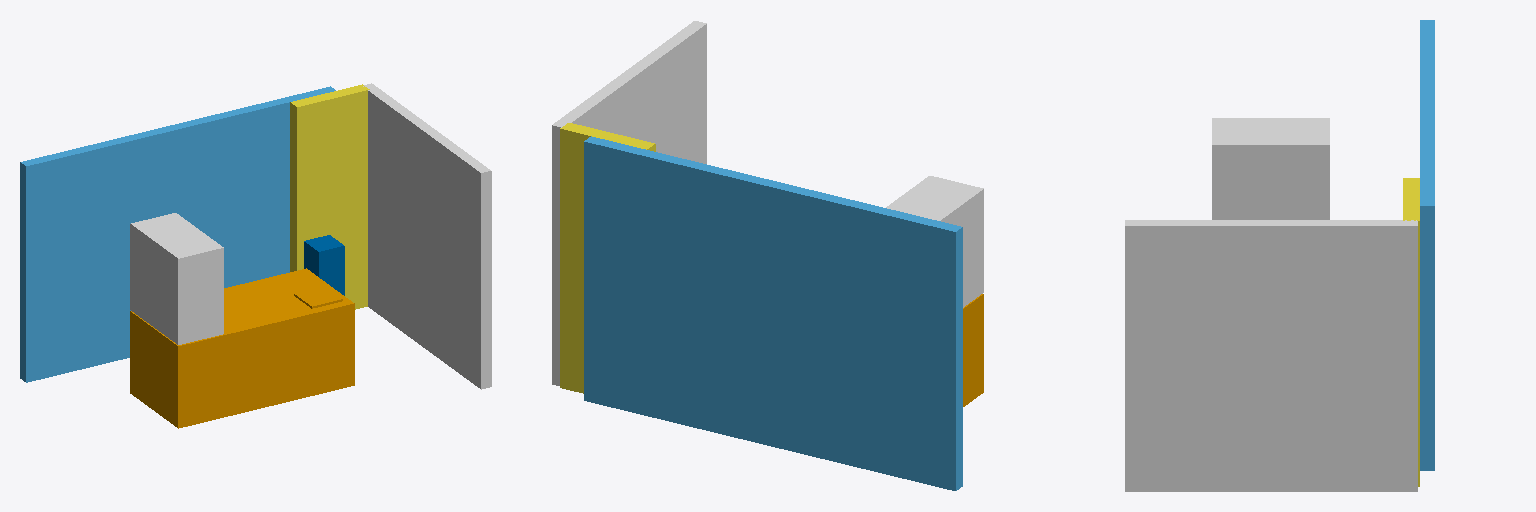
--- What the picture shows (computed from the rendered views, not written in the file) ---
3 views of the same robot in one strip: view 1: azimuth 30°, elevation 25°; view 2: azimuth 150°, elevation 25°; view 3: azimuth 270°, elevation 25° (orthographic).
Robot: pandas — 41 links, 40 joints (7 revolute, 2 prismatic, 31 fixed); root link world; default pose: joints at zero except 1 at the middle of their limits (panda2_joint4 = -1.57).
Visible links, largest first — view 1: wall_link_1, wall_link_2, support_link, wall_link_3, panda1_box, pedestal; view 2: wall_link_1, wall_link_2, wall_link_3, panda1_box, support_link; view 3: wall_link_2, panda1_box, wall_link_1, wall_link_3.
Link boxes in pixels (x1,y1,x2,y2): wall_link_1: (20, 86, 335, 382); wall_link_2: (363, 83, 491, 389); support_link: (130, 268, 354, 428); wall_link_3: (290, 84, 369, 309); panda1_box: (130, 213, 223, 344); pedestal: (304, 235, 344, 295); wall_link_1: (584, 136, 962, 490); wall_link_2: (552, 21, 706, 385); wall_link_3: (560, 123, 655, 393); panda1_box: (886, 176, 983, 307); support_link: (963, 294, 983, 406); wall_link_2: (1125, 220, 1417, 491); panda1_box: (1212, 118, 1329, 219); wall_link_1: (1420, 20, 1434, 470); wall_link_3: (1403, 178, 1419, 486).
Size in the robot's own frame: 3.33 by 2.12 by 2 metres.
Geometry: primitives only (box / cylinder / sphere), no mesh files.

The robot description file, URDF, robot "pandas":
<?xml version="1.0" ?>
<!-- =================================================================================== -->
<!-- |    This document was autogenerated by xacro from [local-path]/devel/hpp/install/share/agimus_demos/franka/manipulation/urdf/demo.urdf.xacro | -->
<!-- |    EDITING THIS FILE BY HAND IS NOT RECOMMENDED                                 | -->
<!-- =================================================================================== -->
<robot name="pandas">
  <link name="support_link">
    <inertial>
      <mass value="200"/>
      <origin xyz="0 0 0.45"/>
      <inertia ixx="50" ixy="0" ixz="0" iyy="50" iyz="0" izz="50"/>
    </inertial>
    <visual>
      <origin xyz="0 0 0.38"/>
      <geometry>
        <box size="1.703 0.803 0.76"/>
      </geometry>
    </visual>
    <collision>
      <origin xyz="0 0 0.38"/>
      <geometry>
        <box size="1.703 0.803 0.76"/>
      </geometry>
    </collision>
    <!--visual>
          <origin xyz="-0.61 0.2215 0.77"/>
          <geometry>
	    <box size="0.363 0.252 0.02"/>
          </geometry>
        </visual>
        <collision>
          <origin xyz="-0.61 0.2215 0.77"/>
          <geometry>
	    <box size="0.363 0.252 0.02"/>
          </geometry>
        </collision-->
    <visual>
      <origin xyz="0.6385 -0.1655 0.77"/>
      <geometry>
        <box size="0.3 0.3 0.02"/>
      </geometry>
    </visual>
    <collision>
      <origin xyz="0.6385 -0.1655 0.77"/>
      <geometry>
        <box size="0.3 0.3 0.02"/>
      </geometry>
    </collision>
  </link>
  <link name="wall_link_1">
    <inertial>
      <mass value="200"/>
      <origin xyz="0 0 1."/>
      <inertia ixx="50" ixy="0" ixz="0" iyy="50" iyz="0" izz="50"/>
    </inertial>
    <visual>
      <origin xyz="0 0 1.0"/>
      <geometry>
        <box size="3.0 0.1 2.0"/>
      </geometry>
    </visual>
    <collision>
      <origin xyz="0 0 1.0"/>
      <geometry>
        <box size="3.0 0.1 2.0"/>
      </geometry>
    </collision>
  </link>
  <link name="wall_link_2">
    <inertial>
      <mass value="200"/>
      <origin xyz="0 0 1."/>
      <inertia ixx="50" ixy="0" ixz="0" iyy="50" iyz="0" izz="50"/>
    </inertial>
    <visual>
      <origin xyz="0 0 1.0"/>
      <geometry>
        <box size="0.1 2.0 2.0"/>
      </geometry>
      <material name="lightGrey">
        <color rgba="0.9 0.9 0.9 0.5"/>
      </material>
    </visual>
    <collision>
      <origin xyz="0 0 1.0"/>
      <geometry>
        <box size="0.1 2.0 2.0"/>
      </geometry>
    </collision>
  </link>
  <link name="wall_link_3">
    <inertial>
      <mass value="200"/>
      <origin xyz="0 0 1."/>
      <inertia ixx="50" ixy="0" ixz="0" iyy="50" iyz="0" izz="50"/>
    </inertial>
    <visual>
      <origin xyz="0 0 1.0"/>
      <geometry>
        <box size="0.7 0.12 2.0"/>
      </geometry>
    </visual>
    <collision>
      <origin xyz="0 0 1.0"/>
      <geometry>
        <box size="0.7 0.12 2.0"/>
      </geometry>
    </collision>
  </link>
  <link name="pedestal">
    <inertial>
      <mass value="1."/>
      <origin xyz="1.05 0.45 0.4625"/>
      <inertia ixx=".01" ixy="0" ixz="0" iyy=".01" iyz="0" izz=".1"/>
    </inertial>
    <visual>
      <origin xyz="0 0 0.4625"/>
      <geometry>
        <box size="0.25 0.25 0.925"/>
      </geometry>
    </visual>
    <collision>
      <origin xyz="0 0 0.4625"/>
      <geometry>
        <box size="0.25 0.25 0.925"/>
      </geometry>
    </collision>
  </link>
  <!-- Wrap panda1 robot into a box shaped obstacle -->
  <link name="panda1_box">
    <inertial>
      <mass value="100"/>
      <origin xyz="0 0 0"/>
      <inertia ixx="25" ixy="0" ixz="0" iyy="25" iyz="0" izz="25"/>
    </inertial>
    <collision>
      <origin xyz="0 0 0"/>
      <geometry>
        <box size="0.44 0.803 0.80"/>
      </geometry>
    </collision>
    <visual>
      <origin xyz="0 0 0"/>
      <geometry>
        <box size="0.44 0.803 0.80"/>
      </geometry>
      <material name="lightGrey">
        <color rgba="0.9 0.9 0.9 0.5"/>
      </material>
    </visual>
  </link>
  <!-- Gazebo requires a joint to a link called "world" for statically mounted robots -->
  <link name="world">
    <inertial>
      <origin rpy="0 0  0" xyz="-0.0 0.000 0.0"/>
      <mass value="0.0"/>
       <inertia ixx="0.00" ixy="0.0" ixz="0.00015" iyy="0.0"  iyz="0.0" izz="0.0"/>
    </inertial>
  </link>
 
  <joint name="world_joint" type="fixed">
    <origin rpy="0 0 0" xyz="0 0 0"/>
    <parent link="world"/>
    <child link="support_link"/>
  </joint>
  <joint name="support_joint" type="fixed">
    <origin rpy="0 0 3.141592653589793" xyz="0.563 -0.1655 .78"/>
    <parent link="support_link"/>
    <child link="panda2_link0"/>
  </joint>
  <joint name="wall_joint_1" type="fixed">
    <origin xyz="0 1.07 0"/>
    <parent link="world"/>
    <child link="wall_link_1"/>
  </joint>
  <joint name="wall_joint_2" type="fixed">
    <origin xyz="1.78 0 0"/>
    <parent link="world"/>
    <child link="wall_link_2"/>
  </joint>
  <joint name="wall_joint_3" type="fixed">
    <origin xyz="1.40 0.96 0"/>
    <parent link="world"/>
    <child link="wall_link_3"/>
  </joint>
  <joint name="pedestal_joint" type="fixed">
    <origin xyz="1.05 0.45 0"/>
    <parent link="world"/>
    <child link="pedestal"/>
  </joint>
  <joint name="panda1_box_joint" type="fixed">
    <origin xyz="-0.6315 0 1.17"/>
    <parent link="world"/>
    <child link="panda1_box"/>
  </joint>
  <!-- sub-link defining detailed meshes for collision with environment -->
  <link name="panda2_link0">
    <inertial>
      <origin rpy="0 0 0" xyz="-0.041018 -0.00014 0.049974"/>
      <mass value="0.629769"/>
      <inertia ixx="0.00315" ixy="8.2904e-07" ixz="0.00015" iyy="0.00388" iyz="8.2299e-06" izz="0.004285"/>
    </inertial>
  </link>
  <!-- sub-link defining coarse geometries of real robot's internal self-collision -->
  <link name="panda2_link0_sc">
    <collision>
      <origin rpy="0 1.5707963267948966 0" xyz="-0.075 0 0.06"/>
      <geometry>
        <cylinder length="0.03" radius="0.09"/>
      </geometry>
    </collision>
    <collision>
      <origin xyz="-0.06 0 0.06"/>
      <geometry>
        <sphere radius="0.09"/>
      </geometry>
    </collision>
    <collision>
      <origin xyz="-0.09 0 0.06"/>
      <geometry>
        <sphere radius="0.09"/>
      </geometry>
    </collision>
    <inertial>
      <origin rpy="0 0  0" xyz="-0.0 0.000 0.0"/>
      <mass value="0.0"/>
       <inertia ixx="0.00" ixy="0.0" ixz="0.00015" iyy="0.0"  iyz="0.0" izz="0.0"/>
    </inertial>    
  </link>
  <!-- fixed joint between both sub-links -->
  <joint name="panda2_link0_sc_joint" type="fixed">
    <origin rpy="0 0 0"/>
    <parent link="panda2_link0"/>
    <child link="panda2_link0_sc"/>
  </joint>
  <!-- sub-link defining detailed meshes for collision with environment -->
  <link name="panda2_link1">
    <inertial>
      <origin rpy="0 0 0" xyz="0.003875 0.002081 -0.04762"/>
      <mass value="4.970684"/>
      <inertia ixx="0.70337" ixy="-0.000139" ixz="0.006772" iyy="0.70661" iyz="0.019169" izz="0.009117"/>
    </inertial>
  </link>
  <!-- sub-link defining coarse geometries of real robot's internal self-collision -->
  <link name="panda2_link1_sc">
    <collision>
      <origin rpy="0 0 0" xyz="0 0 -0.1915"/>
      <geometry>
        <cylinder length="0.283" radius="0.09"/>
      </geometry>
    </collision>
    <collision>
      <origin xyz="0 0 -0.05000000000000002"/>
      <geometry>
        <sphere radius="0.09"/>
      </geometry>
    </collision>
    <collision>
      <origin xyz="0 0 -0.33299999999999996"/>
      <geometry>
        <sphere radius="0.09"/>
      </geometry>
    </collision>
    <inertial>
      <origin rpy="0 0  0" xyz="-0.0 0.000 0.0"/>
      <mass value="0.0"/>
       <inertia ixx="0.00" ixy="0.0" ixz="0.00015" iyy="0.0"  iyz="0.0" izz="0.0"/>
    </inertial>
  </link>
  <!-- fixed joint between both sub-links -->
  <joint name="panda2_link1_sc_joint" type="fixed">
    <origin rpy="0 0 0"/>
    <parent link="panda2_link1"/>
    <child link="panda2_link1_sc"/>
  </joint>
  <joint name="panda2_joint1" type="revolute">
    <origin rpy="0 0 0" xyz="0 0 0.333"/>
    <parent link="panda2_link0"/>
    <child link="panda2_link1"/>
    <axis xyz="0 0 1"/>
    <limit effort="87.0" lower="-2.8973" upper="2.8973" velocity="2.175"/>
    <safety_controller k_position="100.0" k_velocity="40.0" soft_lower_limit="-2.8973" soft_upper_limit="2.8973"/>
    <dynamics D="1" K="7000" damping="0.003" friction="0.0" mu_coulomb="0" mu_viscous="16"/>
  </joint>
  <!-- sub-link defining detailed meshes for collision with environment -->
  <link name="panda2_link2">
    <inertial>
      <origin rpy="0 0 0" xyz="-0.003141 -0.02872  0.003495"/>
      <mass value="0.646926"/>
      <inertia ixx="0.007962" ixy="-0.003925" ixz="0.010254" iyy="0.02811" iyz="0.000704" izz="0.025995"/>
    </inertial>
  </link>
  <!-- sub-link defining coarse geometries of real robot's internal self-collision -->
  <link name="panda2_link2_sc">
    <collision>
      <origin rpy="0 0 0" xyz="0 0 0"/>
      <geometry>
        <cylinder length="0.12" radius="0.09"/>
      </geometry>
    </collision>
    <collision>
      <origin xyz="0 0 0.06"/>
      <geometry>
        <sphere radius="0.09"/>
      </geometry>
    </collision>
    <collision>
      <origin xyz="0 0 -0.06"/>
      <geometry>
        <sphere radius="0.09"/>
      </geometry>
    </collision>
    <inertial>
      <origin rpy="0 0  0" xyz="-0.0 0.000 0.0"/>
      <mass value="0.0"/>
       <inertia ixx="0.00" ixy="0.0" ixz="0.00015" iyy="0.0"  iyz="0.0" izz="0.0"/>
    </inertial>
  </link>
  <!-- fixed joint between both sub-links -->
  <joint name="panda2_link2_sc_joint" type="fixed">
    <origin rpy="0 0 0"/>
    <parent link="panda2_link2"/>
    <child link="panda2_link2_sc"/>
  </joint>
  <joint name="panda2_joint2" type="revolute">
    <origin rpy="-1.5707963267948966 0 0" xyz="0 0 0"/>
    <parent link="panda2_link1"/>
    <child link="panda2_link2"/>
    <axis xyz="0 0 1"/>
    <limit effort="87.0" lower="-1.7628" upper="1.7628" velocity="2.175"/>
    <safety_controller k_position="100.0" k_velocity="40.0" soft_lower_limit="-1.7628" soft_upper_limit="1.7628"/>
    <dynamics D="1" K="7000" damping="0.003" friction="0.0" mu_coulomb="0" mu_viscous="16"/>
  </joint>
  <!-- sub-link defining detailed meshes for collision with environment -->
  <link name="panda2_link3">
    <inertial>
      <origin rpy="0 0 0" xyz="2.7518e-02 3.9252e-02 -6.6502e-02"/>
      <mass value="3.228604"/>
      <inertia ixx="0.037242" ixy="-0.004761" ixz="-0.011396" iyy="0.036155" iyz="-0.012805" izz="0.01083"/>
    </inertial>
  </link>
  <!-- sub-link defining coarse geometries of real robot's internal self-collision -->
  <link name="panda2_link3_sc">
    <collision>
      <origin rpy="0 0 0" xyz="0 0 -0.145"/>
      <geometry>
        <cylinder length="0.15" radius="0.09"/>
      </geometry>
    </collision>
    <collision>
      <origin xyz="0 0 -0.06999999999999999"/>
      <geometry>
        <sphere radius="0.09"/>
      </geometry>
    </collision>
    <collision>
      <origin xyz="0 0 -0.21999999999999997"/>
      <geometry>
        <sphere radius="0.09"/>
      </geometry>
    </collision>
    <inertial>
      <origin rpy="0 0  0" xyz="-0.0 0.000 0.0"/>
      <mass value="0.0"/>
       <inertia ixx="0.00" ixy="0.0" ixz="0.00015" iyy="0.0"  iyz="0.0" izz="0.0"/>
    </inertial>
  </link>
  <!-- fixed joint between both sub-links -->
  <joint name="panda2_link3_sc_joint" type="fixed">
    <origin rpy="0 0 0"/>
    <parent link="panda2_link3"/>
    <child link="panda2_link3_sc"/>
  </joint>
  <joint name="panda2_joint3" type="revolute">
    <origin rpy="1.5707963267948966 0 0" xyz="0 -0.316 0"/>
    <parent link="panda2_link2"/>
    <child link="panda2_link3"/>
    <axis xyz="0 0 1"/>
    <limit effort="87.0" lower="-2.8973" upper="2.8973" velocity="2.175"/>
    <safety_controller k_position="100.0" k_velocity="40.0" soft_lower_limit="-2.8973" soft_upper_limit="2.8973"/>
    <dynamics D="1" K="7000" damping="0.003" friction="0.0" mu_coulomb="0" mu_viscous="16"/>
  </joint>
  <!-- sub-link defining detailed meshes for collision with environment -->
  <link name="panda2_link4">
    <inertial>
      <origin rpy="0 0 0" xyz="-5.317e-02 1.04419e-01 2.7454e-02"/>
      <mass value="3.587895"/>
      <inertia ixx="0.025853" ixy="0.007796" ixz="-0.001332" iyy="0.019552" iyz="0.008641" izz="0.028323"/>
    </inertial>
  </link>
  <!-- sub-link defining coarse geometries of real robot's internal self-collision -->
  <link name="panda2_link4_sc">
    <collision>
      <origin rpy="0 0 0" xyz="0 0 0"/>
      <geometry>
        <cylinder length="0.12" radius="0.09"/>
      </geometry>
    </collision>
    <collision>
      <origin xyz="0 0 0.06"/>
      <geometry>
        <sphere radius="0.09"/>
      </geometry>
    </collision>
    <collision>
      <origin xyz="0 0 -0.06"/>
      <geometry>
        <sphere radius="0.09"/>
      </geometry>
    </collision>
    <inertial>
      <origin rpy="0 0  0" xyz="-0.0 0.000 0.0"/>
      <mass value="0.0"/>
       <inertia ixx="0.00" ixy="0.0" ixz="0.00015" iyy="0.0"  iyz="0.0" izz="0.0"/>
    </inertial>
  </link>
  <!-- fixed joint between both sub-links -->
  <joint name="panda2_link4_sc_joint" type="fixed">
    <origin rpy="0 0 0"/>
    <parent link="panda2_link4"/>
    <child link="panda2_link4_sc"/>
  </joint>
  <joint name="panda2_joint4" type="revolute">
    <origin rpy="1.5707963267948966 0 0" xyz="0.0825 0 0"/>
    <parent link="panda2_link3"/>
    <child link="panda2_link4"/>
    <axis xyz="0 0 1"/>
    <limit effort="87.0" lower="-3.0718" upper="-0.0698" velocity="2.175"/>
    <safety_controller k_position="100.0" k_velocity="40.0" soft_lower_limit="-3.0718" soft_upper_limit="-0.0698"/>
    <dynamics D="1" K="7000" damping="0.003" friction="0.0" mu_coulomb="0" mu_viscous="16"/>
  </joint>
  <!-- sub-link defining detailed meshes for collision with environment -->
  <link name="panda2_link5">
    <inertial>
      <origin rpy="0 0 0" xyz="-1.1953e-02 4.1065e-02 -3.8437e-02"/>
      <mass value="1.225946"/>
      <inertia ixx="0.035549" ixy="-0.002117" ixz="-0.004037" iyy="0.029474" iyz="0.000229" izz="0.008627"/>
    </inertial>
  </link>
  <!-- sub-link defining coarse geometries of real robot's internal self-collision -->
  <link name="panda2_link5_sc">
    <collision>
      <origin rpy="0 0 0" xyz="0 0 -0.26"/>
      <geometry>
        <cylinder length="0.1" radius="0.09"/>
      </geometry>
    </collision>
    <collision>
      <origin xyz="0 0 -0.21000000000000002"/>
      <geometry>
        <sphere radius="0.09"/>
      </geometry>
    </collision>
    <collision>
      <origin xyz="0 0 -0.31"/>
      <geometry>
        <sphere radius="0.09"/>
      </geometry>
    </collision>
    <collision>
      <origin rpy="0 0 0.08" xyz="0 0.08 -0.13"/>
      <geometry>
        <cylinder length="0.14" radius="0.055"/>
      </geometry>
    </collision>
    <collision>
      <origin xyz="0 0.08 -0.06"/>
      <geometry>
        <sphere radius="0.055"/>
      </geometry>
    </collision>
    <collision>
      <origin xyz="0 0.08 -0.2"/>
      <geometry>
        <sphere radius="0.055"/>
      </geometry>
    </collision>
    <inertial>
      <origin rpy="0 0  0" xyz="-0.0 0.000 0.0"/>
      <mass value="0.0"/>
       <inertia ixx="0.00" ixy="0.0" ixz="0.00015" iyy="0.0"  iyz="0.0" izz="0.0"/>
    </inertial>
  </link>
  <!-- fixed joint between both sub-links -->
  <joint name="panda2_link5_sc_joint" type="fixed">
    <origin rpy="0 0 0"/>
    <parent link="panda2_link5"/>
    <child link="panda2_link5_sc"/>
  </joint>
  <joint name="panda2_joint5" type="revolute">
    <origin rpy="-1.5707963267948966 0 0" xyz="-0.0825 0.384 0"/>
    <parent link="panda2_link4"/>
    <child link="panda2_link5"/>
    <axis xyz="0 0 1"/>
    <limit effort="12.0" lower="-2.8973" upper="2.8973" velocity="2.61"/>
    <safety_controller k_position="100.0" k_velocity="40.0" soft_lower_limit="-2.8973" soft_upper_limit="2.8973"/>
    <dynamics D="1" K="7000" damping="0.003" friction="0.0" mu_coulomb="0" mu_viscous="16"/>
  </joint>
  <!-- sub-link defining detailed meshes for collision with environment -->
  <link name="panda2_link6">
    <inertial>
      <origin rpy="0 0 0" xyz="6.0149e-02 -1.4117e-02 -1.0517e-02"/>
      <mass value="1.666555"/>
      <inertia ixx="0.001964" ixy="0.000109" ixz="-0.001158" iyy="0.004354" iyz="0.000341" izz="0.005433"/>
    </inertial>
  </link>
  <!-- sub-link defining coarse geometries of real robot's internal self-collision -->
  <link name="panda2_link6_sc">
    <collision>
      <origin rpy="0 0 0" xyz="0 0 -0.03"/>
      <geometry>
        <cylinder length="0.08" radius="0.08"/>
      </geometry>
    </collision>
    <collision>
      <origin xyz="0 0 0.010000000000000002"/>
      <geometry>
        <sphere radius="0.08"/>
      </geometry>
    </collision>
    <collision>
      <origin xyz="0 0 -0.07"/>
      <geometry>
        <sphere radius="0.08"/>
      </geometry>
    </collision>
    <inertial>
      <origin rpy="0 0  0" xyz="-0.0 0.000 0.0"/>
      <mass value="0.0"/>
       <inertia ixx="0.00" ixy="0.0" ixz="0.00015" iyy="0.0"  iyz="0.0" izz="0.0"/>
    </inertial>
  </link>
  <!-- fixed joint between both sub-links -->
  <joint name="panda2_link6_sc_joint" type="fixed">
    <origin rpy="0 0 0"/>
    <parent link="panda2_link6"/>
    <child link="panda2_link6_sc"/>
  </joint>
  <joint name="panda2_joint6" type="revolute">
    <origin rpy="1.5707963267948966 0 0" xyz="0 0 0"/>
    <parent link="panda2_link5"/>
    <child link="panda2_link6"/>
    <axis xyz="0 0 1"/>
    <limit effort="12.0" lower="-0.0175" upper="3.7525" velocity="2.61"/>
    <safety_controller k_position="100.0" k_velocity="40.0" soft_lower_limit="-0.0175" soft_upper_limit="3.7525"/>
    <dynamics D="1" K="7000" damping="0.003" friction="0.0" mu_coulomb="0" mu_viscous="16"/>
  </joint>
  <!-- sub-link defining detailed meshes for collision with environment -->
  <link name="panda2_link7">
    <inertial>
      <origin rpy="0 0 0" xyz="1.0517e-02 -4.252e-03 6.1597e-02"/>
      <mass value="0.735522"/>
      <inertia ixx="0.012516" ixy="-0.000428" ixz="-0.001196" iyy="0.010027" iyz="-0.000741" izz="0.004815"/>
    </inertial>
  </link>
  <!-- sub-link defining coarse geometries of real robot's internal self-collision -->
  <link name="panda2_link7_sc">
    <collision>
      <origin rpy="0 0 0" xyz="0 0 0.01"/>
      <geometry>
        <cylinder length="0.14" radius="0.07"/>
      </geometry>
    </collision>
    <collision>
      <origin xyz="0 0 0.08"/>
      <geometry>
        <sphere radius="0.07"/>
      </geometry>
    </collision>
    <collision>
      <origin xyz="0 0 -0.060000000000000005"/>
      <geometry>
        <sphere radius="0.07"/>
      </geometry>
    </collision>
    <collision>
      <origin rpy="0 1.5707963267948966 0" xyz="0.06 0 0.082"/>
      <geometry>
        <cylinder length="0.01" radius="0.06"/>
      </geometry>
    </collision>
    <collision>
      <origin xyz="0.065 0 0.082"/>
      <geometry>
        <sphere radius="0.06"/>
      </geometry>
    </collision>
    <collision>
      <origin xyz="0.055 0 0.082"/>
      <geometry>
        <sphere radius="0.06"/>
      </geometry>
    </collision>
    <inertial>
      <origin rpy="0 0  0" xyz="-0.0 0.000 0.0"/>
      <mass value="0.0"/>
       <inertia ixx="0.00" ixy="0.0" ixz="0.00015" iyy="0.0"  iyz="0.0" izz="0.0"/>
    </inertial>
  </link>
  <!-- fixed joint between both sub-links -->
  <joint name="panda2_link7_sc_joint" type="fixed">
    <origin rpy="0 0 0.7853981633974483"/>
    <parent link="panda2_link7"/>
    <child link="panda2_link7_sc"/>
  </joint>
  <joint name="panda2_joint7" type="revolute">
    <origin rpy="1.5707963267948966 0 0" xyz="0.088 0 0"/>
    <parent link="panda2_link6"/>
    <child link="panda2_link7"/>
    <axis xyz="0 0 1"/>
    <limit effort="12.0" lower="-2.8973" upper="2.8973" velocity="2.61"/>
    <safety_controller k_position="100.0" k_velocity="40.0" soft_lower_limit="-2.8973" soft_upper_limit="2.8973"/>
    <dynamics D="1" K="7000" damping="0.003" friction="0.0" mu_coulomb="0" mu_viscous="16"/>
  </joint>
  <link name="panda2_link8">
      <inertial>
      <origin rpy="0 0  0" xyz="-0.0 0.000 0.0"/>
      <mass value="0.0"/>
       <inertia ixx="0.00" ixy="0.0" ixz="0.00015" iyy="0.0"  iyz="0.0" izz="0.0"/>
    </inertial>
  </link>
  
  <joint name="panda2_joint8" type="fixed">
    <origin rpy="0 0 0" xyz="0 0 0.107"/>
    <parent link="panda2_link7"/>
    <child link="panda2_link8"/>
  </joint>
  <joint name="panda2_hand_joint" type="fixed">
    <parent link="panda2_link8"/>
    <child link="panda2_hand"/>
    <origin rpy="0 0 -0.7853981633974483" xyz="0 0 0"/>
  </joint>
  <!-- sub-link defining detailed meshes for collision with environment -->
  <link name="panda2_hand">
    <inertial>
      <origin rpy="0 0 0" xyz="-0.01 0 0.03"/>
      <mass value="0.73"/>
      <inertia ixx="0.001" ixy="0" ixz="0" iyy="0.0025" iyz="0" izz="0.0017"/>
    </inertial>
  </link>
  <!-- sub-link defining coarse geometries of real robot's internal self-collision -->
  <link name="panda2_hand_sc">
    <inertial>
      <origin rpy="0 0  0" xyz="-0.0 0.000 0.0"/>
      <mass value="0.0"/>
       <inertia ixx="0.00" ixy="0.0" ixz="0.00015" iyy="0.0"  iyz="0.0" izz="0.0"/>
    </inertial>
  </link>
  <!-- fixed joint between both sub-links -->
  <joint name="panda2_hand_sc_joint" type="fixed">
    <origin rpy="0 0 0"/>
    <parent link="panda2_hand"/>
    <child link="panda2_hand_sc"/>
  </joint>
  <!-- Define the hand_tcp frame -->
  <link name="panda2_hand_tcp">
    <inertial>
      <origin rpy="0 0  0" xyz="-0.0 0.000 0.0"/>
      <mass value="0.0"/>
       <inertia ixx="0.00" ixy="0.0" ixz="0.00015" iyy="0.0"  iyz="0.0" izz="0.0"/>
    </inertial>
  </link>

  <joint name="panda2_hand_tcp_joint" type="fixed">
    <origin rpy="0 0 0" xyz="0 0 0.1034"/>
    <parent link="panda2_hand"/>
    <child link="panda2_hand_tcp"/>
  </joint>
  <link name="panda2_leftfinger">
    <!-- screw mount -->
    <collision>
      <origin rpy="0 0 0" xyz="0 18.5e-3 11e-3"/>
      <geometry>
        <sphere radius=".03"/>
      </geometry>
    </collision>
    <!-- cartriage sledge -->
    <!-- <collision>
      <origin rpy="0 0 0" xyz="0 6.8e-3 2.2e-3"/>
      <geometry>
        <box size="22e-3 8.8e-3 3.8e-3"/>
      </geometry>
    </collision> -->
    <!-- diagonal finger -->
    <!-- <collision>
      <origin rpy="0.5235987755982988 0 0" xyz="0 15.9e-3 28.35e-3"/>
      <geometry>
        <box size="17.5e-3 7e-3 23.5e-3"/>
      </geometry>
    </collision> -->
    <!-- rubber tip with which to grasp -->
    <!-- <collision>
      <origin rpy="0 0 0" xyz="0 7.58e-3 45.25e-3"/>
      <geometry>
        <box size="17.5e-3 15.2e-3 18.5e-3"/>
      </geometry>
    </collision> -->
    <inertial>
      <origin rpy="0 0 0" xyz="0 0 0"/>
      <mass value="0.015"/>
      <inertia ixx="2.3749999999999997e-06" ixy="0" ixz="0" iyy="2.3749999999999997e-06" iyz="0" izz="7.5e-07"/>
    </inertial>
  </link>
  <link name="panda2_rightfinger">
    <!-- screw mount -->
    <collision>
      <origin rpy="0 0 0" xyz="0 -18.5e-3 11e-3"/>
      <geometry>
        <sphere radius=".03"/>
      </geometry>
    </collision>
    <!-- cartriage sledge -->
    <!-- <collision>
      <origin rpy="0 0 0" xyz="0 -6.8e-3 2.2e-3"/>
      <geometry>
        <box size="22e-3 8.8e-3 3.8e-3"/>
      </geometry>
    </collision> -->
    <!-- diagonal finger -->
    <!-- <collision>
      <origin rpy="-0.5235987755982988 0 0" xyz="0 -15.9e-3 28.35e-3"/>
      <geometry>
        <box size="17.5e-3 7e-3 23.5e-3"/>
      </geometry>
    </collision> -->
    <!-- rubber tip with which to grasp -->
    <!-- <collision>
      <origin rpy="0 0 0" xyz="0 -7.58e-3 45.25e-3"/>
      <geometry>
        <box size="17.5e-3 15.2e-3 18.5e-3"/>
      </geometry>
    </collision> -->
    <inertial>
      <origin rpy="0 0 0" xyz="0 0 0"/>
      <mass value="0.015"/>
      <inertia ixx="2.3749999999999997e-06" ixy="0" ixz="0" iyy="2.3749999999999997e-06" iyz="0" izz="7.5e-07"/>
    </inertial>
  </link>
  <joint name="panda2_finger_joint1" type="prismatic">
    <parent link="panda2_hand"/>
    <child link="panda2_leftfinger"/>
    <origin rpy="0 0 0" xyz="0 0 0.0584"/>
    <axis xyz="0 1 0"/>
    <limit effort="100" lower="0.0" upper="0.04" velocity="0.2"/>
    <dynamics damping="0.3"/>
  </joint>
  <joint name="panda2_finger_joint2" type="prismatic">
    <parent link="panda2_hand"/>
    <child link="panda2_rightfinger"/>
    <origin rpy="0 0 0" xyz="0 0 0.0584"/>
    <axis xyz="0 -1 0"/>
    <limit effort="100" lower="0.0" upper="0.04" velocity="0.2"/>
    <mimic joint="panda2_finger_joint1"/>
    <dynamics damping="0.3"/>
  </joint>
  <link name="panda2_ref_camera_link">
      <inertial>
      <origin rpy="0 0  0" xyz="-0.0 0.000 0.0"/>
      <mass value="0.0"/>
       <inertia ixx="0.00" ixy="0.0" ixz="0.00015" iyy="0.0"  iyz="0.0" izz="0.0"/>
    </inertial>
  </link>
   
  <joint name="panda2_ref_camera_joint" type="fixed">
    <parent link="panda2_hand"/>
    <child link="panda2_ref_camera_link"/>
    <origin rpy="-0.13978963                    -1.47630497                    -3.05136479" xyz="0.03187513                    0.00119426                    0.04185629"/>
  </joint>
  <material name="aluminum">
    <color rgba="0.5 0.5 0.5 1"/>
  </material>
  <material name="plastic">
    <color rgba="0.1 0.1 0.1 1"/>
  </material>
  <!-- camera body, with origin at bottom screw mount -->
  <joint name="camera_joint" type="fixed">
    <origin rpy="0 0 0" xyz="0 0 0"/>
    <parent link="panda2_ref_camera_link"/>
    <child link="camera_bottom_screw_frame"/>
  </joint>
  <link name="camera_bottom_screw_frame">
      <inertial>
      <origin rpy="0 0  0" xyz="-0.0 0.000 0.0"/>
      <mass value="0.0"/>
       <inertia ixx="0.00" ixy="0.0" ixz="0.00015" iyy="0.0"  iyz="0.0" izz="0.0"/>
    </inertial>
  </link>
   
  <joint name="camera_link_joint" type="fixed">
    <origin rpy="0 0 0" xyz="0.010600000000000002 0.0175 0.0125"/>
    <parent link="camera_bottom_screw_frame"/>
    <child link="camera_link"/>
  </joint>
  <link name="camera_link">
    <collision>
      <origin rpy="0 0 0" xyz="0 -0.0175 0"/>
      <geometry>
        <box size="0.02505 0.09 0.025"/>
      </geometry>
    </collision>
    <inertial>
      <!-- The following are not reliable values, and should not be used for modeling -->
      <mass value="0.072"/>
      <origin xyz="0 0 0"/>
      <inertia ixx="0.003881243" ixy="0.0" ixz="0.0" iyy="0.000498940" iyz="0.0" izz="0.003879257"/>
    </inertial>
  </link>
  <!-- camera depth joints and links -->
  <joint name="camera_depth_joint" type="fixed">
    <origin rpy="0 0 0" xyz="0 0 0"/>
    <parent link="camera_link"/>
    <child link="camera_depth_frame"/>
  </joint>
  <link name="camera_depth_frame">
    <inertial>
      <origin rpy="0 0  0" xyz="-0.0 0.000 0.0"/>
      <mass value="0.0"/>
       <inertia ixx="0.00" ixy="0.0" ixz="0.00015" iyy="0.0"  iyz="0.0" izz="0.0"/>
    </inertial>
  </link>    
  <joint name="camera_depth_optical_joint" type="fixed">
    <origin rpy="-1.5707963267948966 0 -1.5707963267948966" xyz="0 0 0"/>
    <parent link="camera_depth_frame"/>
    <child link="camera_depth_optical_frame"/>
  </joint>
  <link name="camera_depth_optical_frame"/>
  <!-- camera left IR joints and links -->
  <joint name="camera_infra1_joint" type="fixed">
    <origin rpy="0 0 0" xyz="0 0.0 0"/>
    <parent link="camera_link"/>
    <child link="camera_infra1_frame"/>
  </joint>
  <link name="camera_infra1_frame">
    <inertial>
      <origin rpy="0 0  0" xyz="-0.0 0.000 0.0"/>
      <mass value="0.0"/>
       <inertia ixx="0.00" ixy="0.0" ixz="0.00015" iyy="0.0"  iyz="0.0" izz="0.0"/>
    </inertial>
  </link>
  <joint name="camera_infra1_optical_joint" type="fixed">
    <origin rpy="-1.5707963267948966 0 -1.5707963267948966" xyz="0 0 0"/>
    <parent link="camera_infra1_frame"/>
    <child link="camera_infra1_optical_frame"/>
  </joint>
  <link name="camera_infra1_optical_frame">
    <inertial>
      <origin rpy="0 0  0" xyz="-0.0 0.000 0.0"/>
      <mass value="0.0"/>
       <inertia ixx="0.00" ixy="0.0" ixz="0.00015" iyy="0.0"  iyz="0.0" izz="0.0"/>
    </inertial>
  </link>
  <!-- camera right IR joints and links -->
  <joint name="camera_infra2_joint" type="fixed">
    <origin rpy="0 0 0" xyz="0 -0.05 0"/>
    <parent link="camera_link"/>
    <child link="camera_infra2_frame"/>
  </joint>
  <link name="camera_infra2_frame">
    <inertial>
      <origin rpy="0 0  0" xyz="-0.0 0.000 0.0"/>
      <mass value="0.0"/>
       <inertia ixx="0.00" ixy="0.0" ixz="0.00015" iyy="0.0"  iyz="0.0" izz="0.0"/>
    </inertial>
  </link>

  <joint name="camera_infra2_optical_joint" type="fixed">
    <origin rpy="-1.5707963267948966 0 -1.5707963267948966" xyz="0 0 0"/>
    <parent link="camera_infra2_frame"/>
    <child link="camera_infra2_optical_frame"/>
  </joint>
  <link name="camera_infra2_optical_frame">
    <inertial>
      <origin rpy="0 0  0" xyz="-0.0 0.000 0.0"/>
      <mass value="0.0"/>
       <inertia ixx="0.00" ixy="0.0" ixz="0.00015" iyy="0.0"  iyz="0.0" izz="0.0"/>
    </inertial>
  </link>

  <!-- camera color joints and links -->
  <joint name="camera_color_joint" type="fixed">
    <origin rpy="0 0 0" xyz="0 0.015 0"/>
    <parent link="camera_link"/>
    <child link="camera_color_frame"/>
  </joint>
  <link name="camera_color_frame">
    <inertial>
      <origin rpy="0 0  0" xyz="-0.0 0.000 0.0"/>
      <mass value="0.0"/>
       <inertia ixx="0.00" ixy="0.0" ixz="0.00015" iyy="0.0"  iyz="0.0" izz="0.0"/>
    </inertial>
  </link>
  <joint name="camera_color_optical_joint" type="fixed">
    <origin rpy="-1.5707963267948966 0 -1.5707963267948966" xyz="0 0 0"/>
    <parent link="camera_color_frame"/>
    <child link="camera_color_optical_frame"/>
  </joint>
  <link name="camera_color_optical_frame">
    <inertial>
      <origin rpy="0 0  0" xyz="-0.0 0.000 0.0"/>
      <mass value="0.0"/>
       <inertia ixx="0.00" ixy="0.0" ixz="0.00015" iyy="0.0"  iyz="0.0" izz="0.0"/>
    </inertial>
  </link>

  <!-- camera support -->
  <link name="panda2_camera_support_link">
    <inertial>
      <mass value="0.010"/>
      <origin xyz="0 0 0"/>
      <inertia ixx="0.001" ixy="0" ixz="0" iyy="0.001" iyz="0" izz="0.001"/>
    </inertial>
  </link>
  <joint name="panda2_camera_support_joint" type="fixed">
    <parent link="panda2_hand"/>
    <child link="panda2_camera_support_link"/>
    <origin rpy="3.141592653589793 0 0" xyz="0 0 0"/>
  </joint>
  <!-- wall behind the table -->
</robot>
